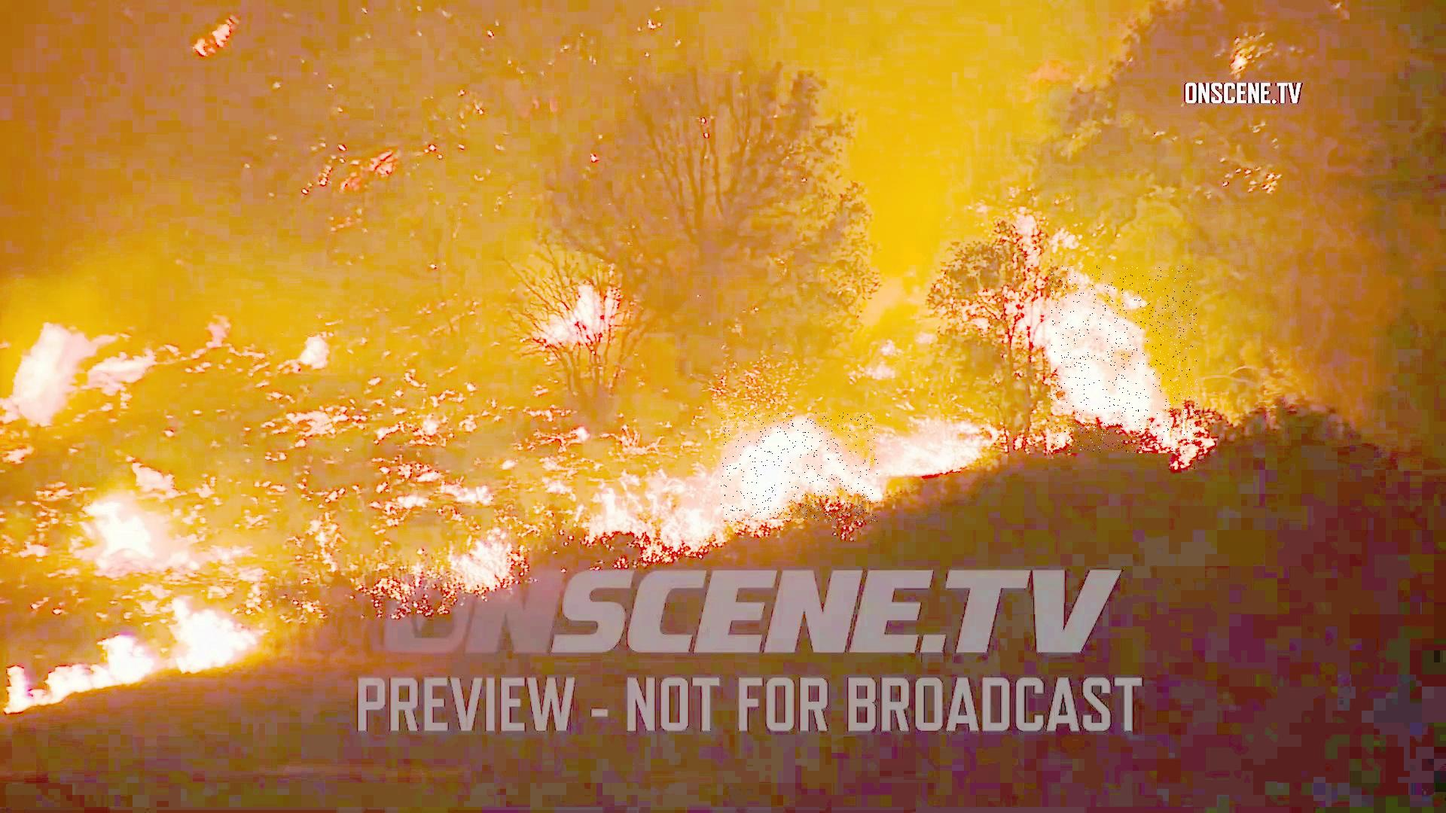fire: (1051, 266, 1198, 453), (721, 413, 879, 523)
